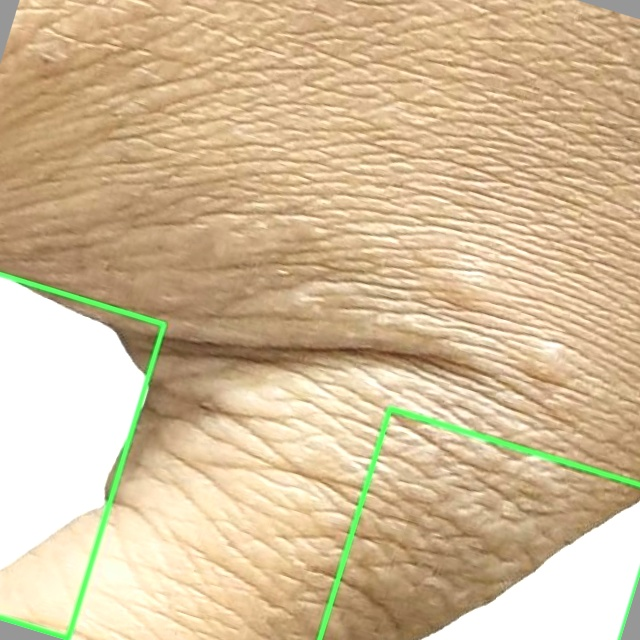Scabies: (319, 408, 639, 639)
